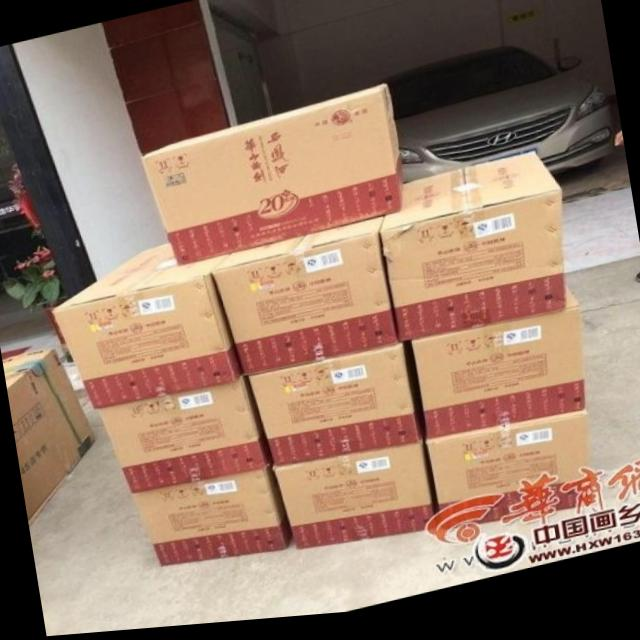box: (140, 90, 406, 267), (379, 160, 566, 350), (52, 247, 240, 411), (210, 221, 396, 378), (413, 295, 586, 447), (247, 351, 422, 473), (97, 382, 266, 493), (431, 421, 592, 536), (277, 450, 437, 555), (133, 471, 293, 571)
